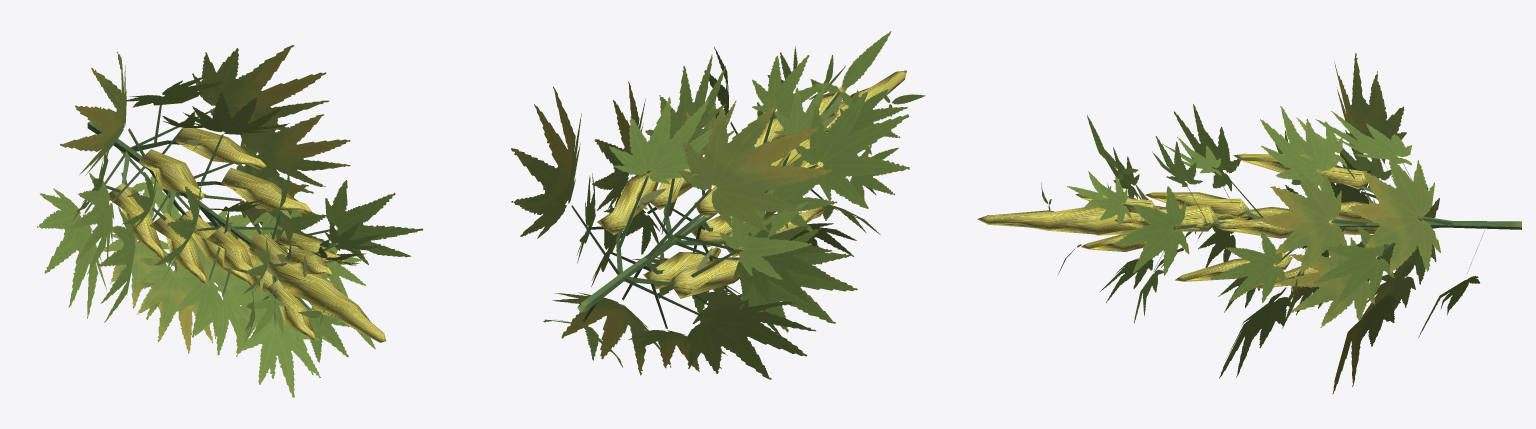
The model's file is p_gold_haze_ripe_c0_cards.obj.
3 renders of one model, left to right at view 1: azimuth 30°, elevation 25°; view 2: azimuth 150°, elevation 25°; view 3: azimuth 270°, elevation 25°, orthographic. The views are drawn at different scales.
Size of the model in its own units: 1.41 by 1.38 by 2.03.
1 material, 1 textured.
